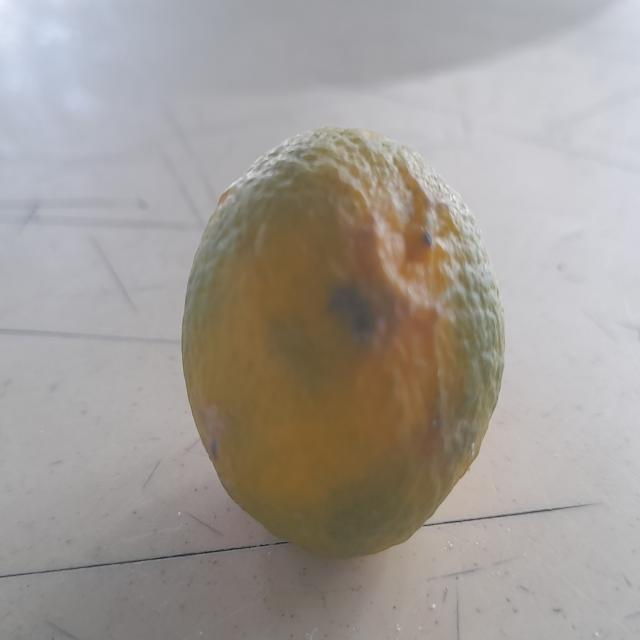greening: (180, 139, 518, 542)
